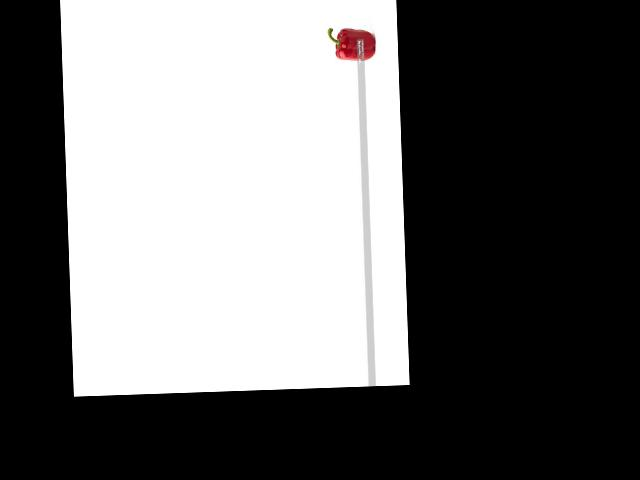bell_pepper: (325, 22, 374, 64)
